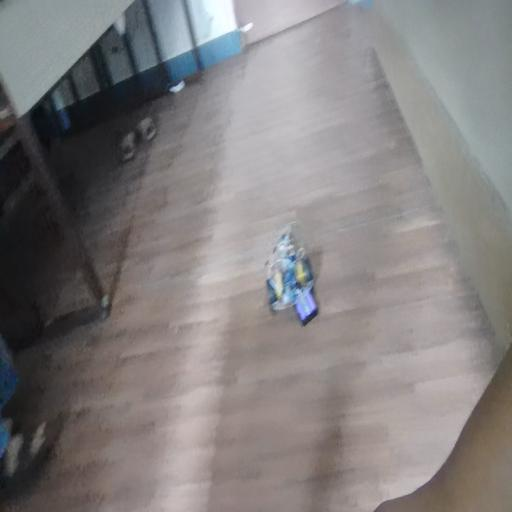car: (268, 243, 333, 335)
